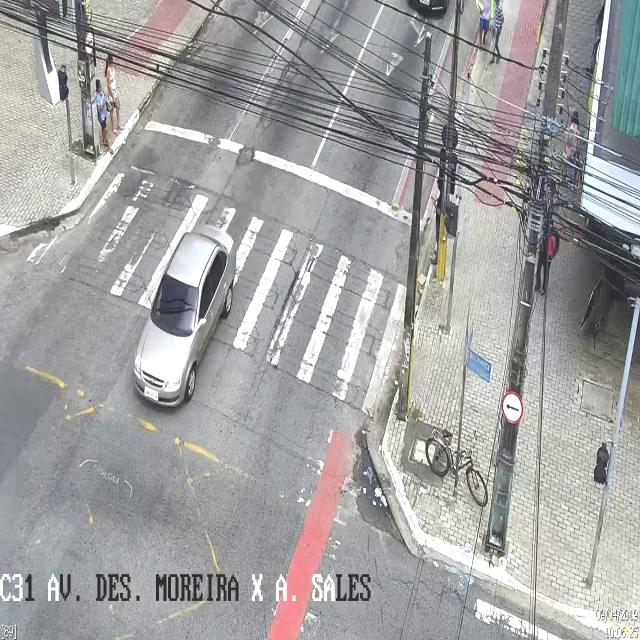Car: (132, 223, 236, 412)
